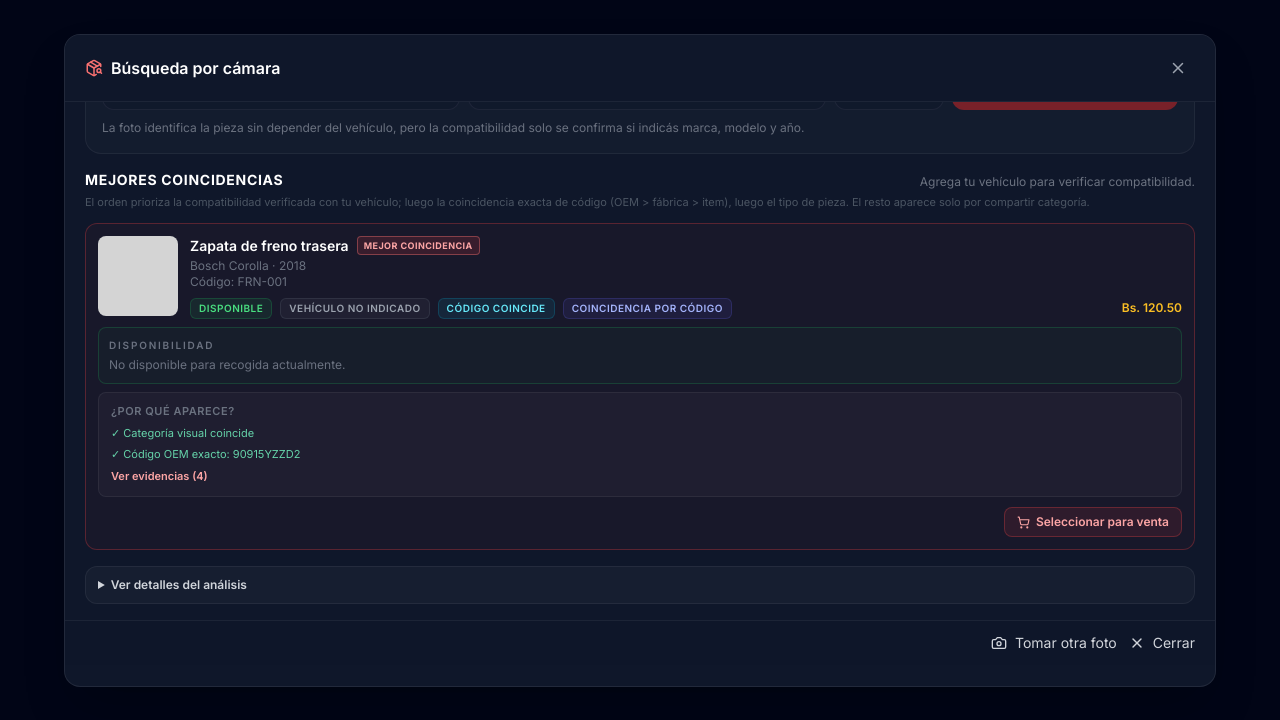
Test: MODO ESCANEO INTELIGENTE — identificacion y explicabilidad › muestra motivos directos en la tarjeta y 'Ver evidencias' para el resto
(page scrolled)
expect the text "¿Por qué aparece?" is shown: met, box [111,404,235,418]
expect the element with test id "motivos-FRN-001" shows "Categoría visual coincide": met, box [123,426,254,440]
Click the button with test id "evidencias-FRN-001" at (159, 476), box [111,468,208,484]
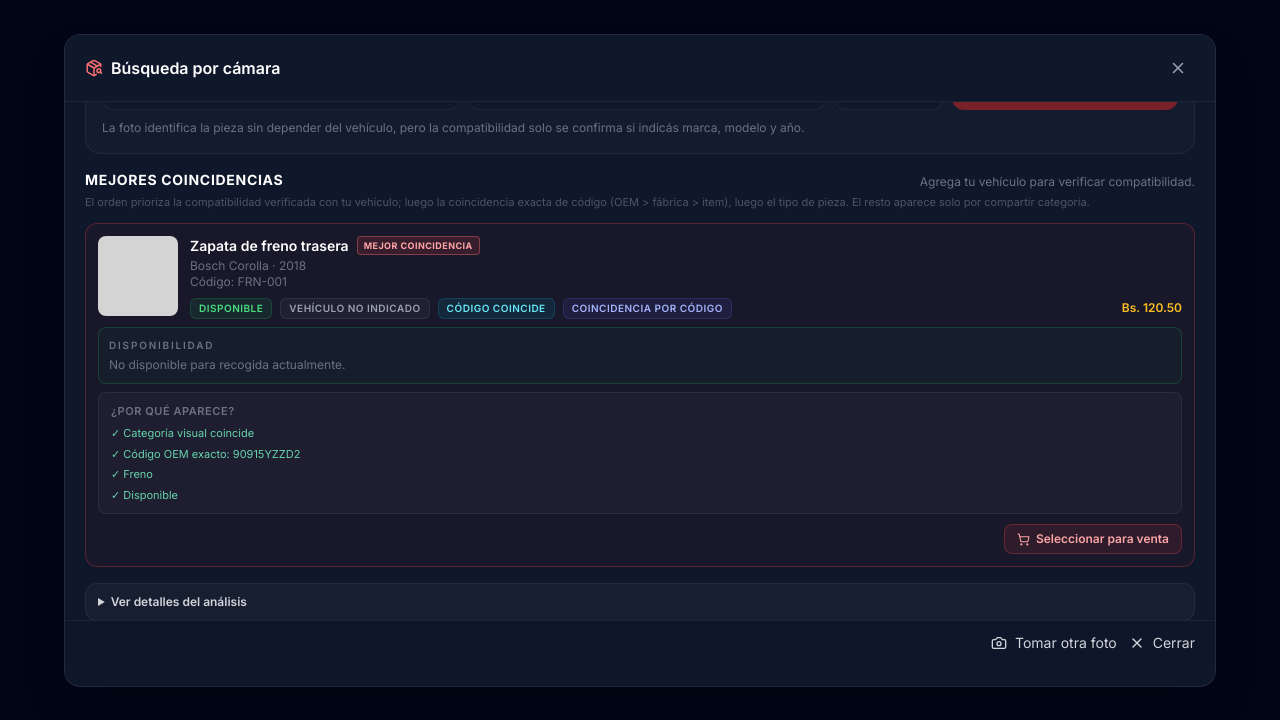
expect the element with test id "motivos-FRN-001" shows "Disponible": met, box [123,488,178,502]
